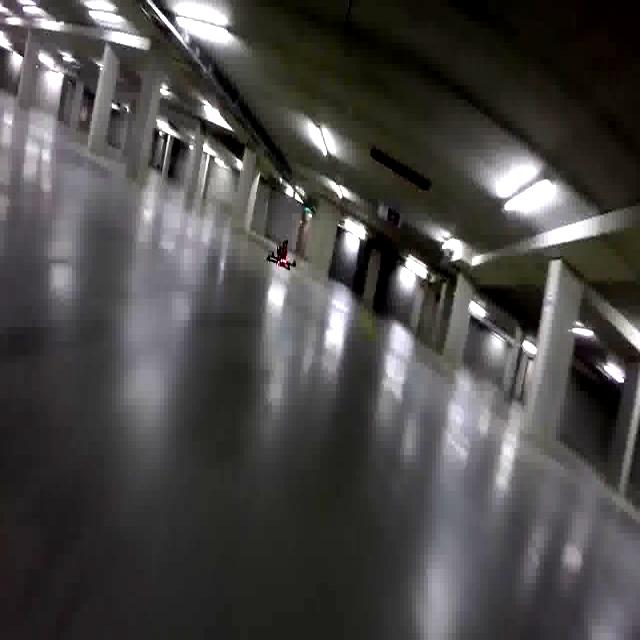drone: (263, 233, 296, 267)
